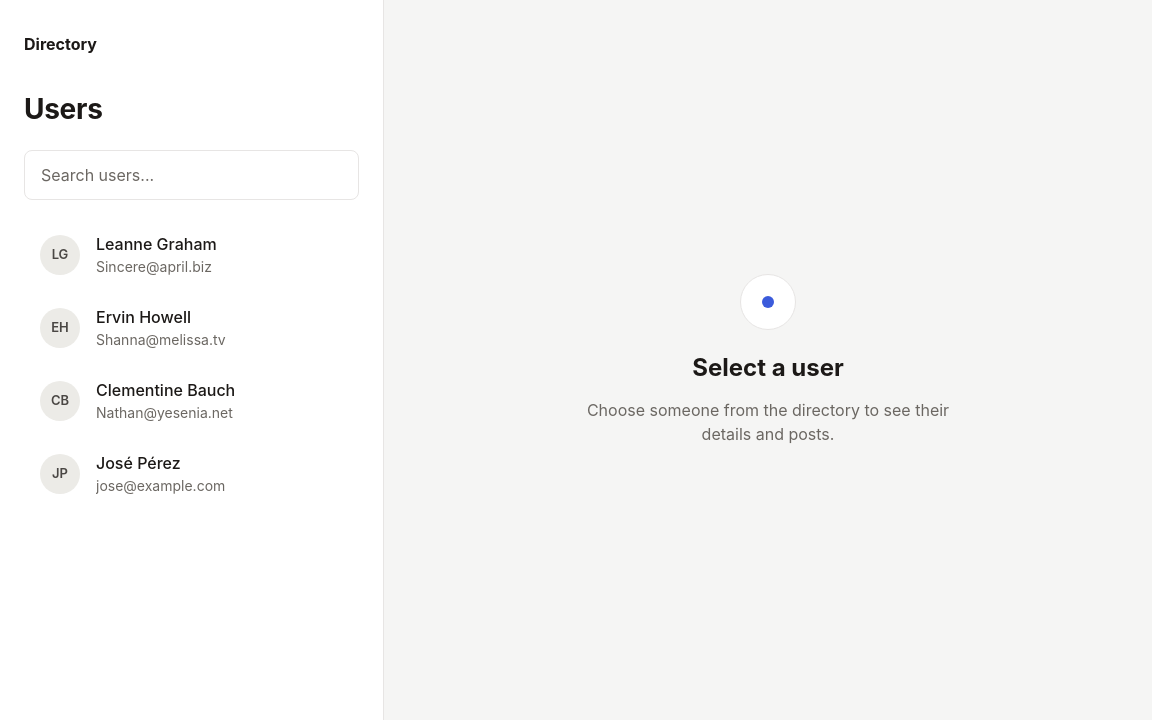
Test: Users directory › loads users and filters them by name ignoring case, spaces and accents
Check: the button "LG Leanne Graham Sincere@april.biz" is shown, box top-left (24, 220), bottom-right (359, 289)
Check: the number of buttons is 4, box top-left (24, 220), bottom-right (359, 289); top-left (24, 293), bottom-right (359, 362); top-left (24, 366), bottom-right (359, 435); top-left (24, 439), bottom-right (359, 508)
Type "  JOSE " into the search field named "Search users by name".
click(192, 175); type("  JOSE ")  # box top-left (24, 150), bottom-right (359, 200)
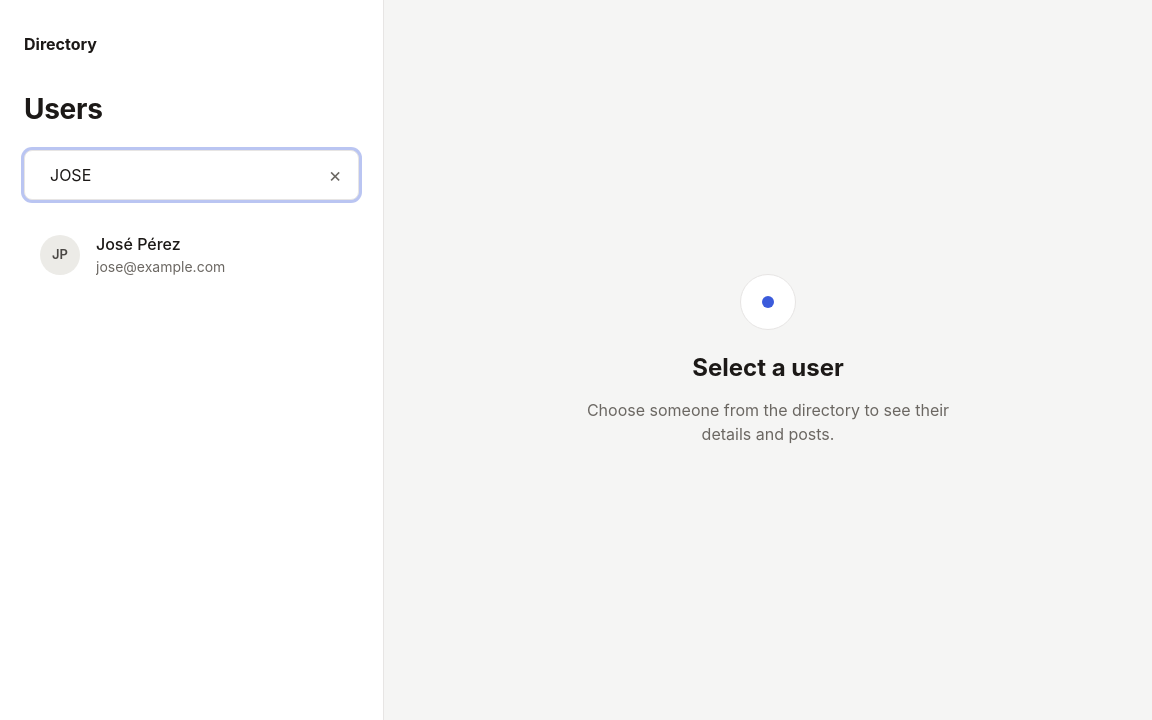
Check: the button "JP José Pérez jose@example.com" is shown, box top-left (24, 220), bottom-right (359, 289)
# Quick clear (×) restores the list and returns focus to the input.
Click the button named "Clear search".
click(335, 175)  # box top-left (319, 159), bottom-right (351, 191)
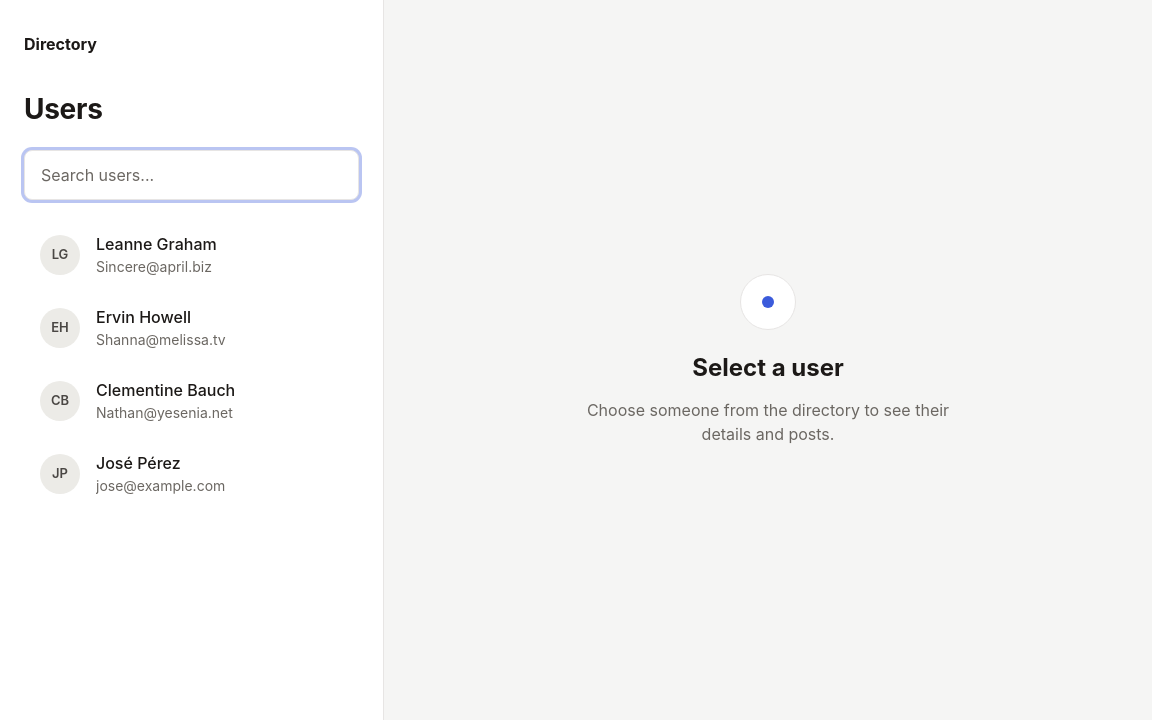
Check: the search field named "Search users by name" is empty, box top-left (24, 150), bottom-right (359, 200)
Check: the number of buttons is 4, box top-left (24, 220), bottom-right (359, 289); top-left (24, 293), bottom-right (359, 362); top-left (24, 366), bottom-right (359, 435); top-left (24, 439), bottom-right (359, 508)
